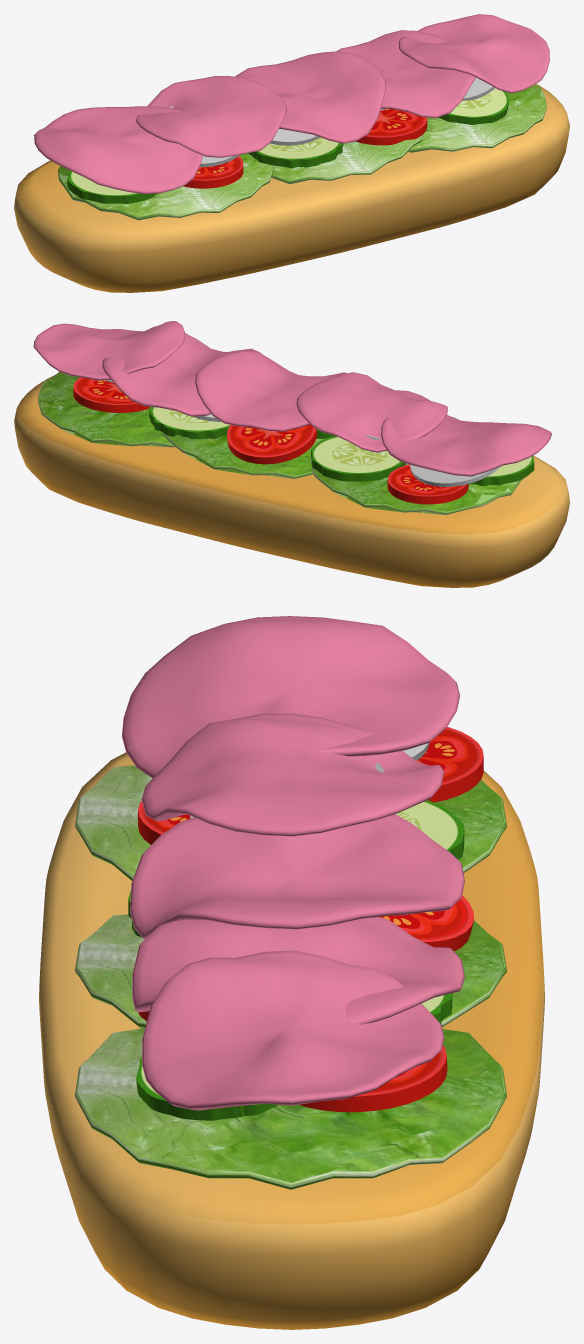
Rendered from Subway-Ham_Bottom.fbx.
3 renders of one model, top to bottom at view 1: azimuth 30°, elevation 25°; view 2: azimuth 150°, elevation 25°; view 3: azimuth 270°, elevation 25°, orthographic. The views are drawn at different scales.
Parts seen in each view (by area): view 1: bread-bottom.001; view 2: bread-bottom.001; view 3: bread-bottom.001.
Part boxes in pixels (x1=…): bread-bottom.001: x1=14, y1=14, x2=569, y2=292; bread-bottom.001: x1=14, y1=321, x2=569, y2=587; bread-bottom.001: x1=39, y1=616, x2=544, y2=1329.
Bounding box in the file's own units: 554 × 146 × 234.
